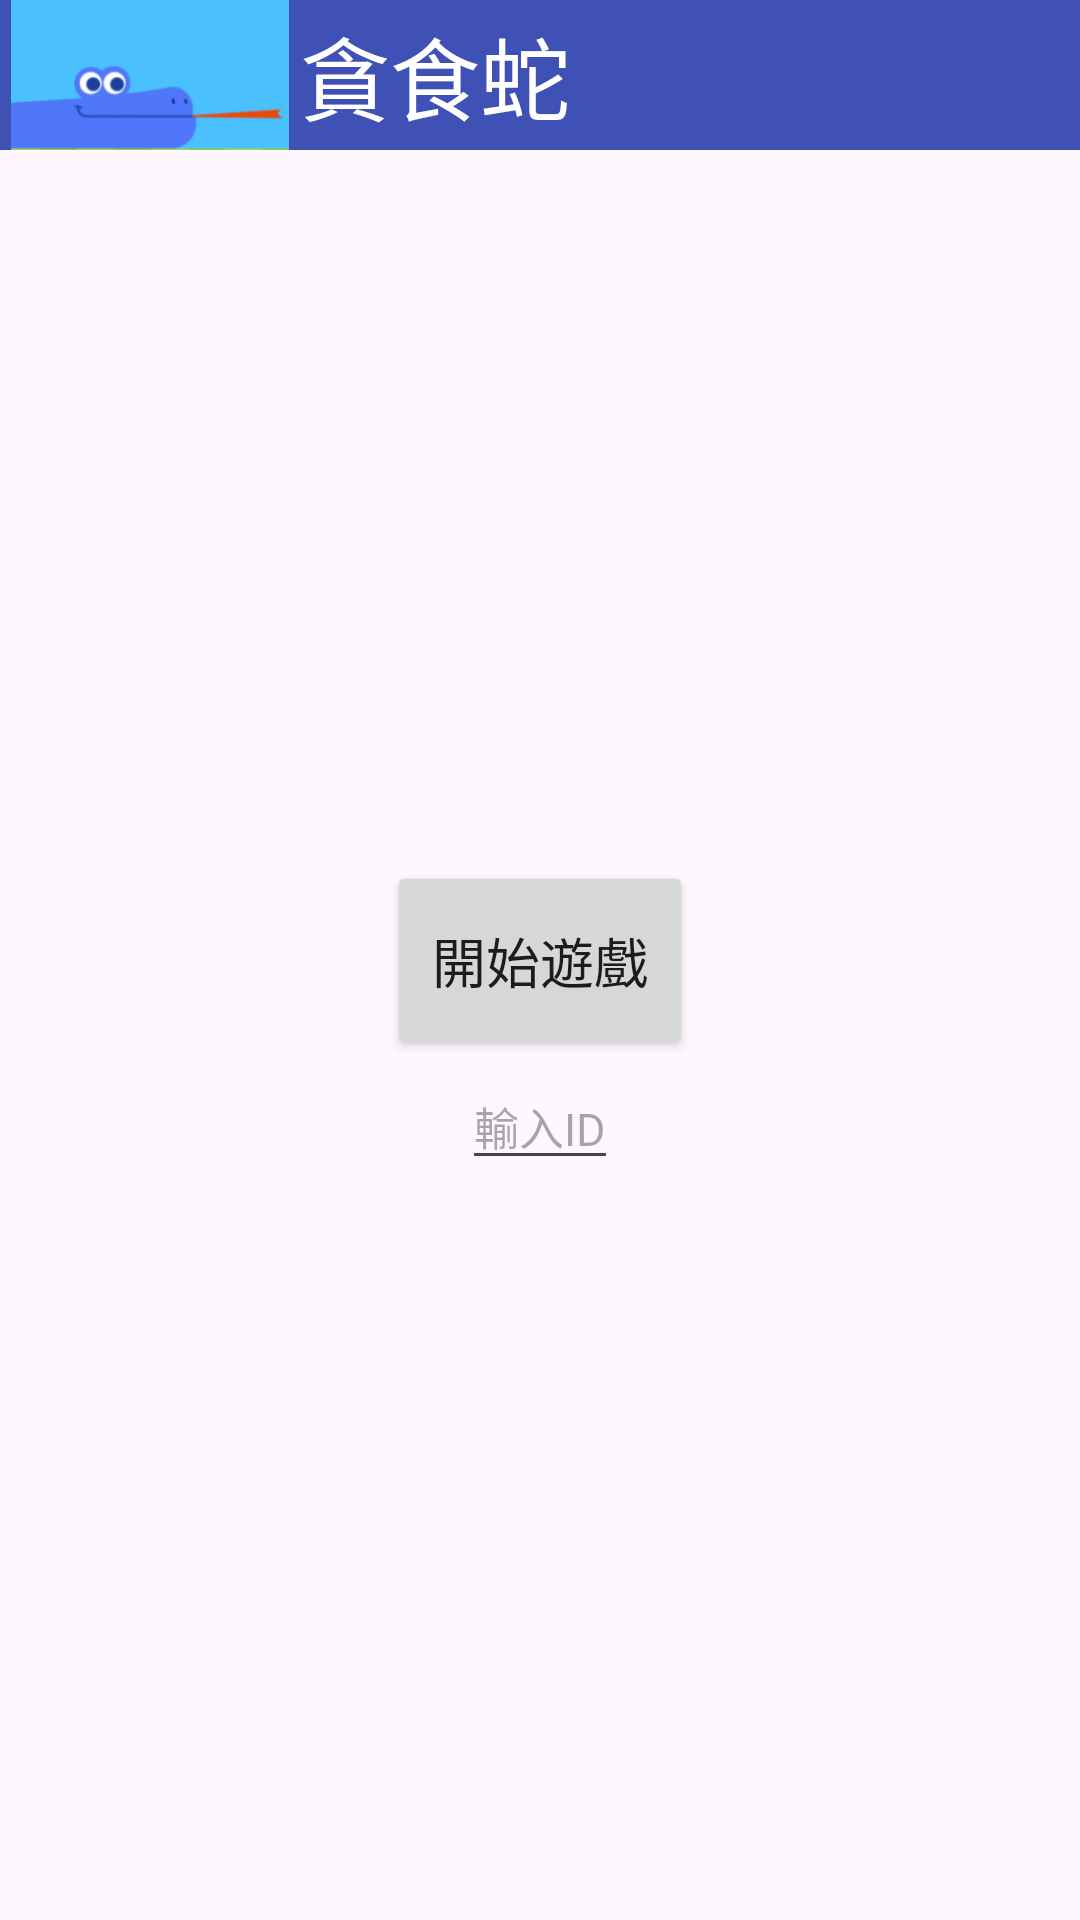

Where to tap for icons on this 1080×1920 app screen, as (x,y):
snake: (150,75)
